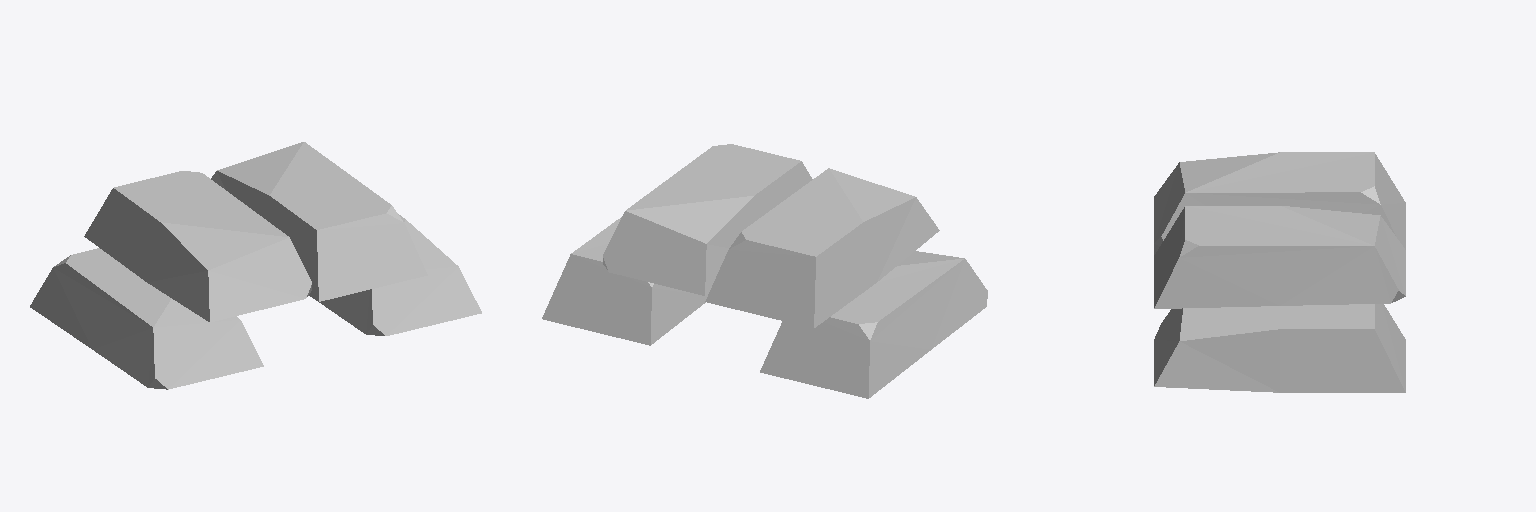
File: Gold-11.obj
The picture shows the model from 3 angles: view 1: azimuth 30°, elevation 25°; view 2: azimuth 150°, elevation 25°; view 3: azimuth 270°, elevation 25°; orthographic projection.
Visible parts, largest first — view 1: Gold_11; view 2: Gold_11; view 3: Gold_11.
Boxes of the visible parts, box(x1,y1,x2,y2) form: Gold_11: box(30, 142, 481, 389); Gold_11: box(542, 144, 987, 398); Gold_11: box(1154, 152, 1405, 392).
Bounding box in the file's own units: 0.225 × 0.075 × 0.15.